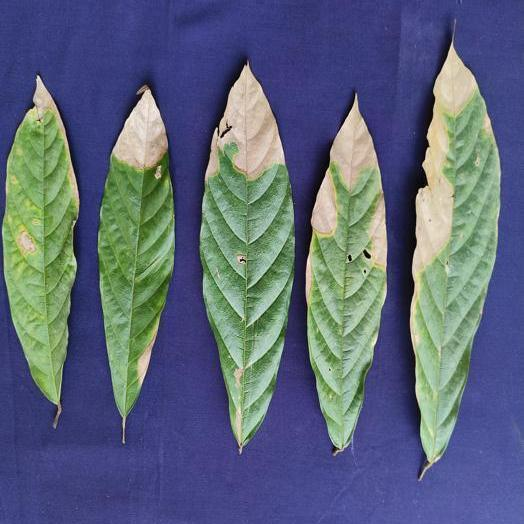Potassium: (410, 42, 500, 477), (200, 64, 294, 450), (306, 96, 386, 453), (2, 75, 78, 427), (100, 87, 174, 442)
